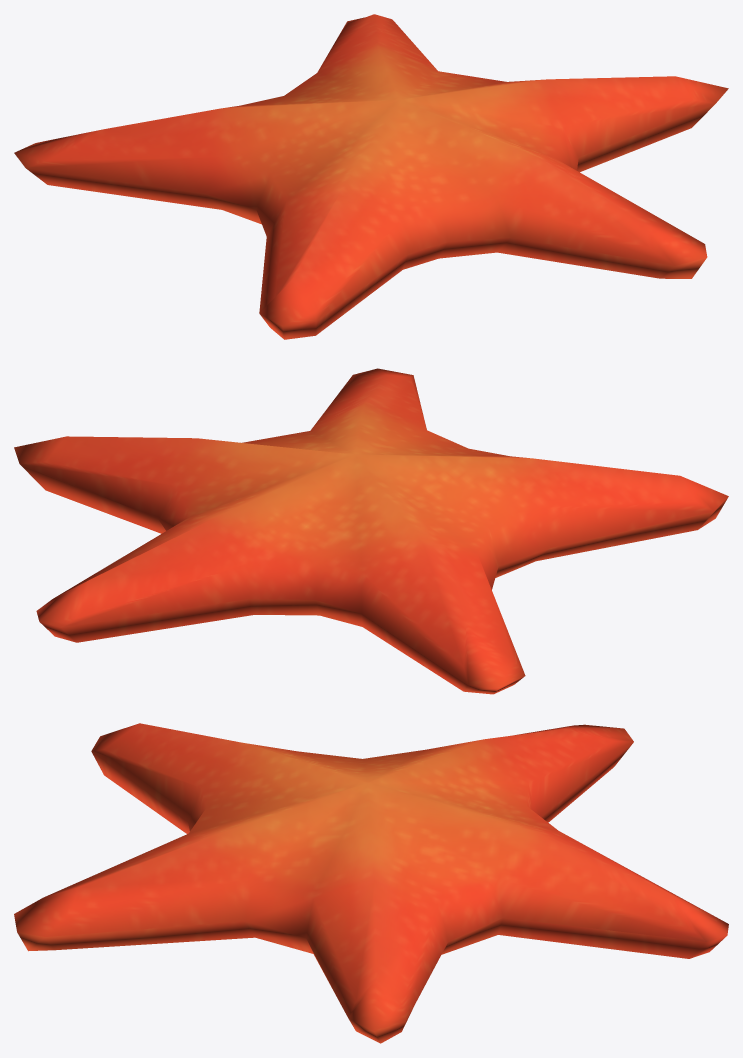
Rendered from M_StarfishOrange.obj.
3 renders of one model, top to bottom at view 1: azimuth 30°, elevation 25°; view 2: azimuth 150°, elevation 25°; view 3: azimuth 270°, elevation 25°, orthographic. The views are drawn at different scales.
Visible parts, largest first — view 1: pCylinder70; view 2: pCylinder70; view 3: pCylinder70.
Part boxes in pixels (x1=…): pCylinder70: x1=14, y1=14, x2=728, y2=339; pCylinder70: x1=14, y1=368, x2=728, y2=694; pCylinder70: x1=14, y1=723, x2=728, y2=1043.
Size of the model in its own units: 2.31 by 0.344 by 2.24.
